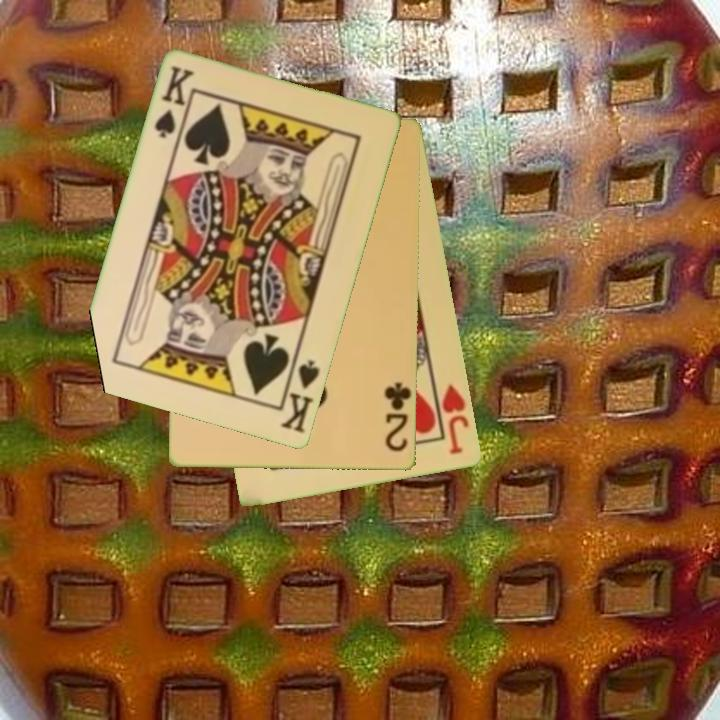2c: (381, 379, 414, 455)
Jh: (431, 378, 472, 458)
Ks: (277, 351, 323, 437), (151, 62, 198, 142)
